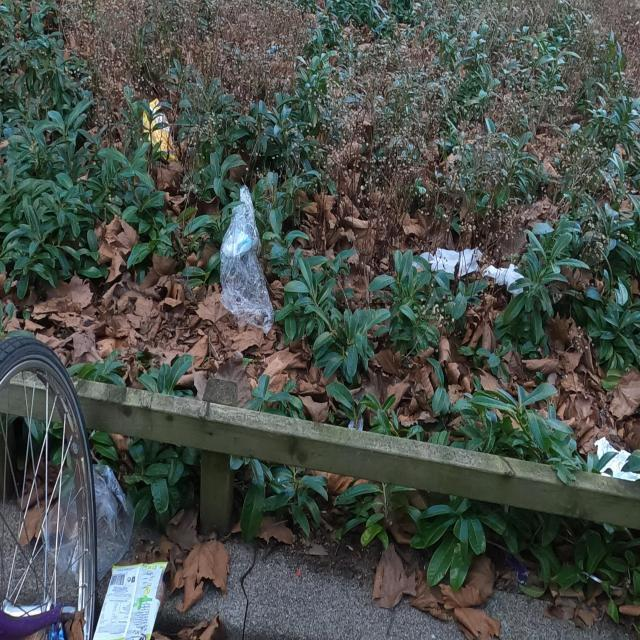Mask: (223, 222, 258, 258)
Paper: (412, 246, 483, 278), (593, 435, 640, 482), (482, 263, 524, 297), (504, 553, 530, 586)
Plastic: (90, 559, 170, 639), (142, 98, 179, 164)
